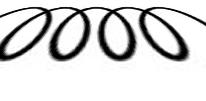inductor: (0, 1, 204, 67)
